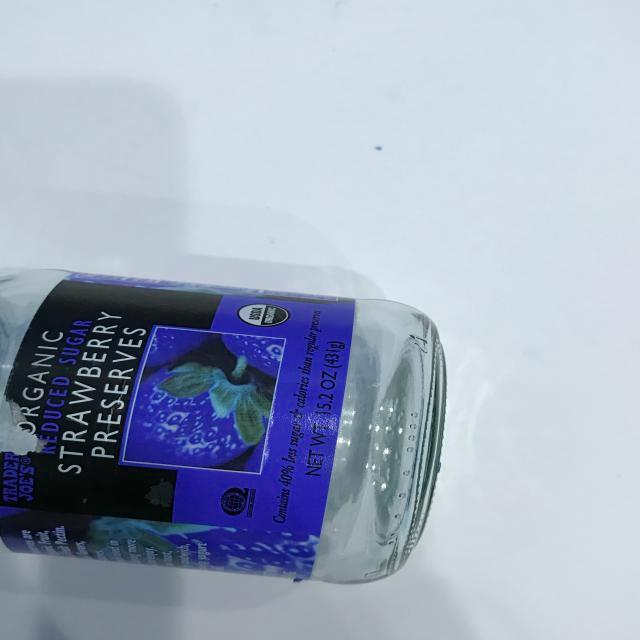glass: (0, 252, 463, 596)
